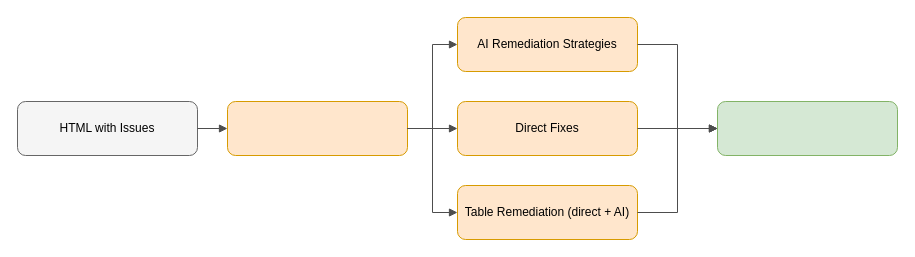
Image size: 915x257. Some labels were removed from this diagram. Here are the shapes that lost their labels. From the top down, the centre of each, then its label:
point 317,128: Remediate Module
point 807,128: Remediated HTML
